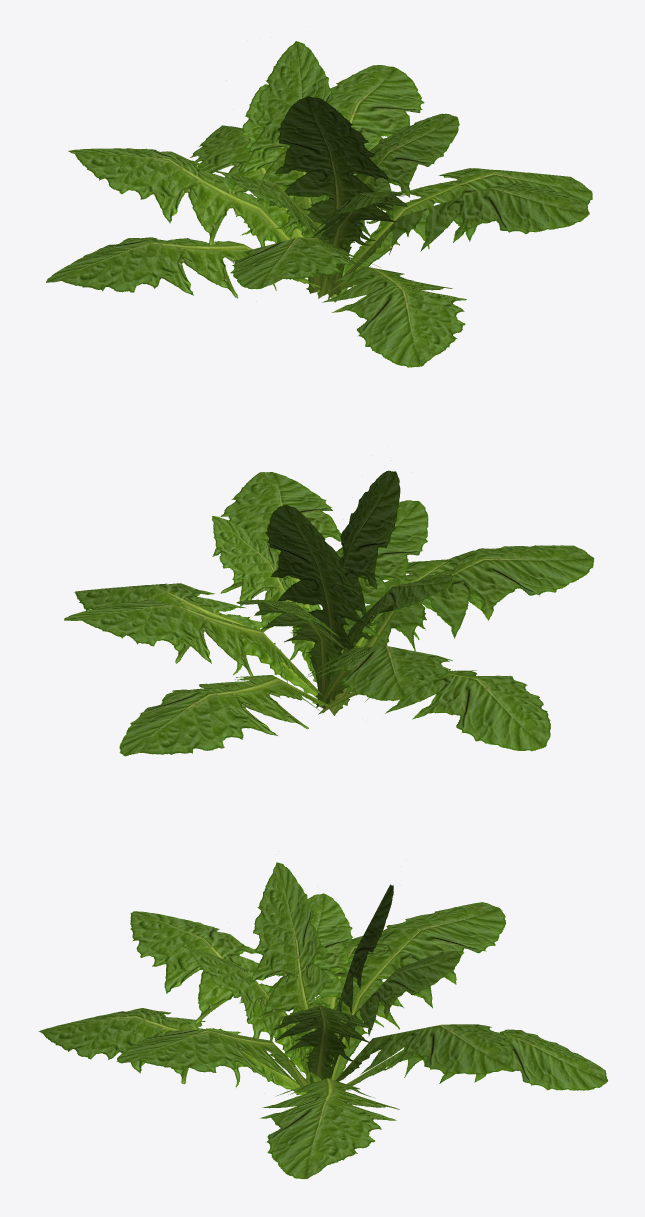
Rendered from plant2.FBX.
3 renders of one model, top to bottom at view 1: azimuth 30°, elevation 25°; view 2: azimuth 150°, elevation 25°; view 3: azimuth 270°, elevation 25°, orthographic. The views are drawn at different scales.
Visible parts, largest first — view 1: plant2; view 2: plant2; view 3: plant2.
Boxes of the visible parts, x1,y1,x2,y2 form: plant2: (46,41,592,367); plant2: (64,470,594,756); plant2: (38,862,607,1179).
Size of the model in its own units: 8.65 by 3.9 by 8.83.
